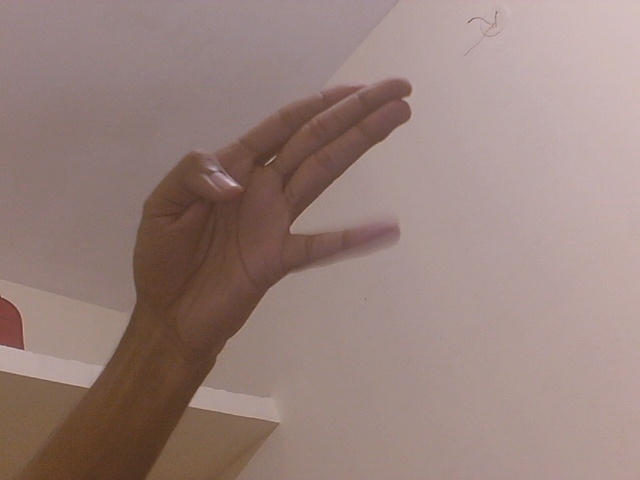hand: (128, 74, 419, 360)
